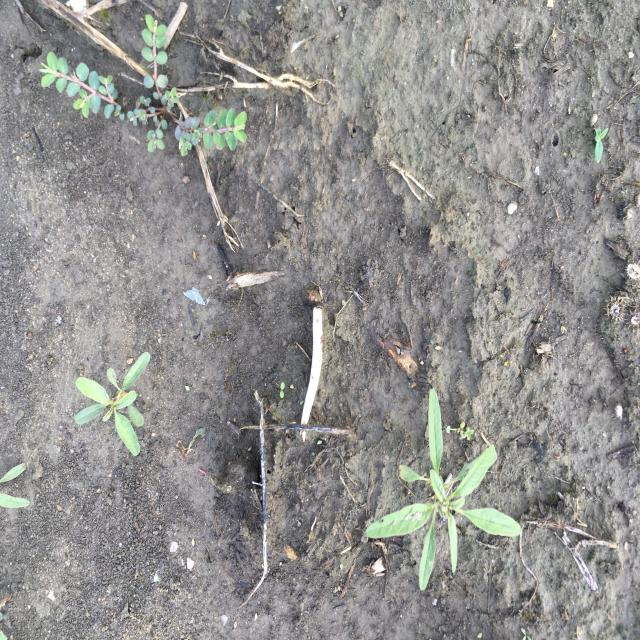SpottedSpurge: (37, 12, 248, 158)
Waterhemp: (364, 387, 523, 592), (73, 351, 152, 457)
